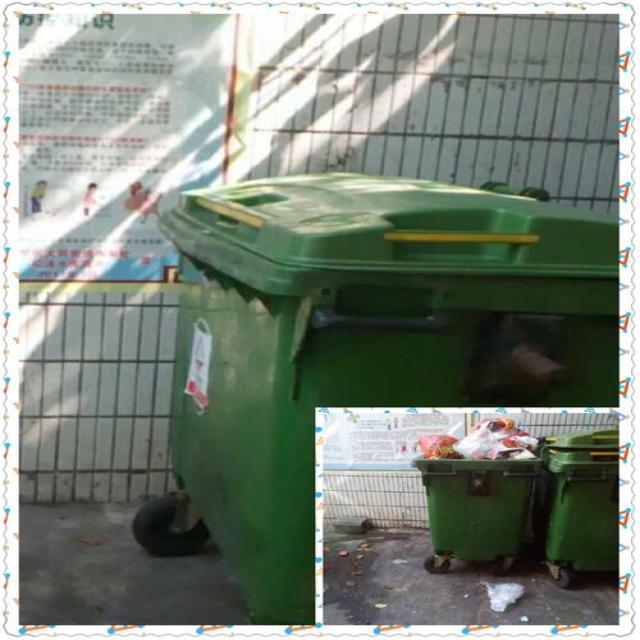garbage: (480, 579, 525, 610)
garbage_bin: (156, 172, 614, 620), (539, 429, 617, 570)
overflow: (410, 419, 544, 557)
